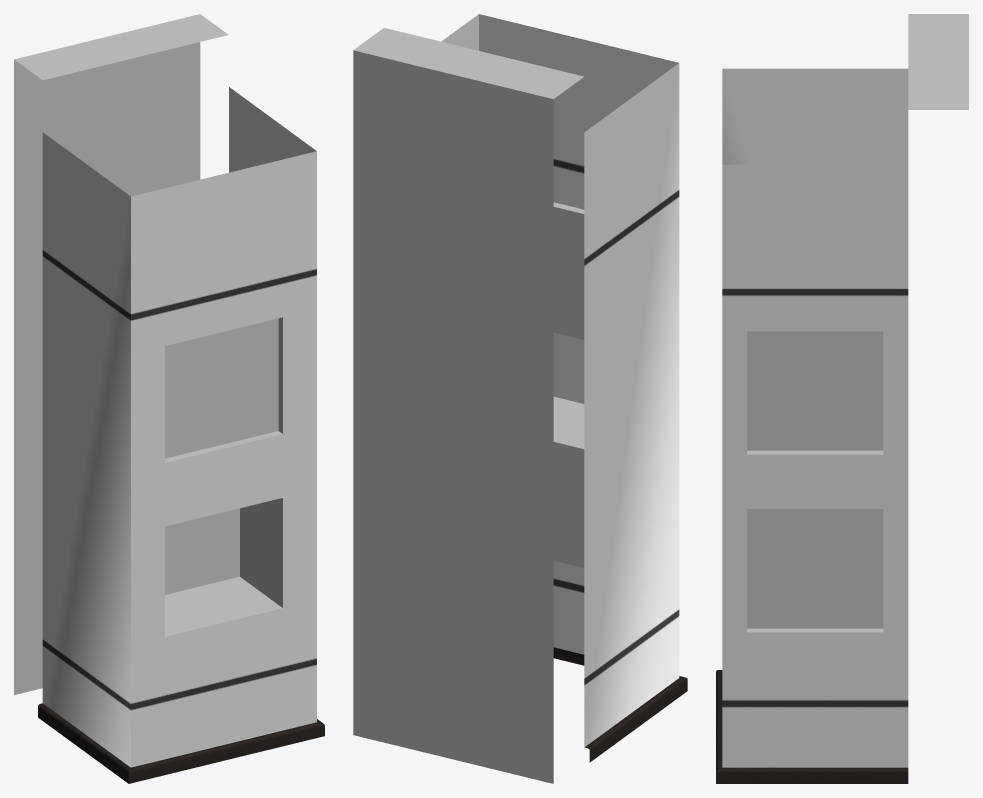
Rendered from Pillar02.FBX.
3 views of the same model, side by side, from view 1: azimuth 30°, elevation 25°; view 2: azimuth 150°, elevation 25°; view 3: azimuth 270°, elevation 25° (orthographic). The views are drawn at different scales.
Visible parts, largest first — view 1: Pillar02; view 2: Pillar02; view 3: Pillar02.
Boxes of the visible parts, x1,y1,x2,y2 form: Pillar02: (14,14,324,783); Pillar02: (353,14,687,783); Pillar02: (716,14,968,783).
Size of the model in its own units: 1.58 by 4.9 by 1.67.
